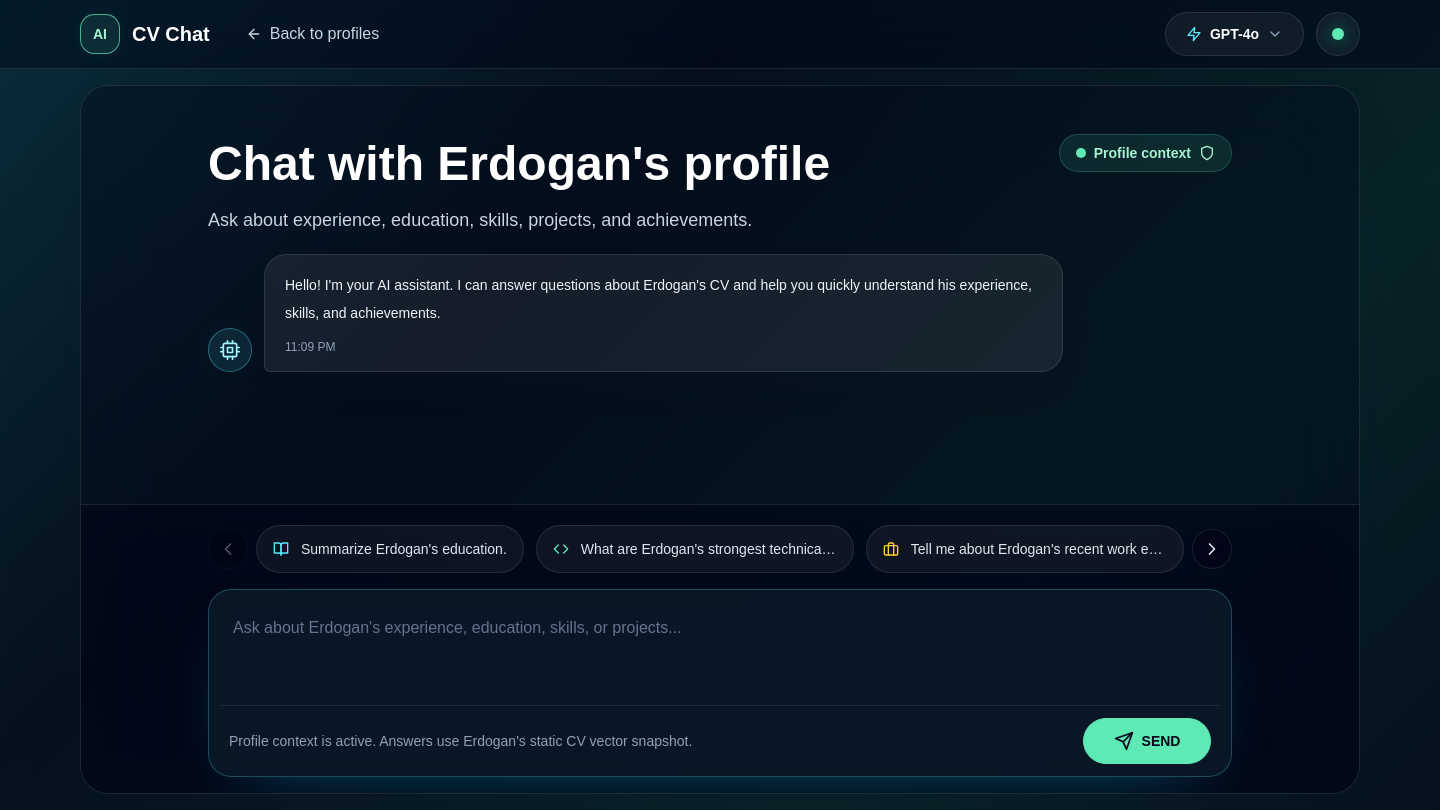
Scenario: ChatRoute › sends the previous completed turn as follow-up context
Expected: the button "GPT-4o" is shown, 1165,12 -> 1304,56
Type "What is the recent role?" into the text box with placeholder "Ask about Erdogan's experience, education, skills, or projects...". click: {"x": 720, "y": 650}
box: 221,602 -> 1219,698
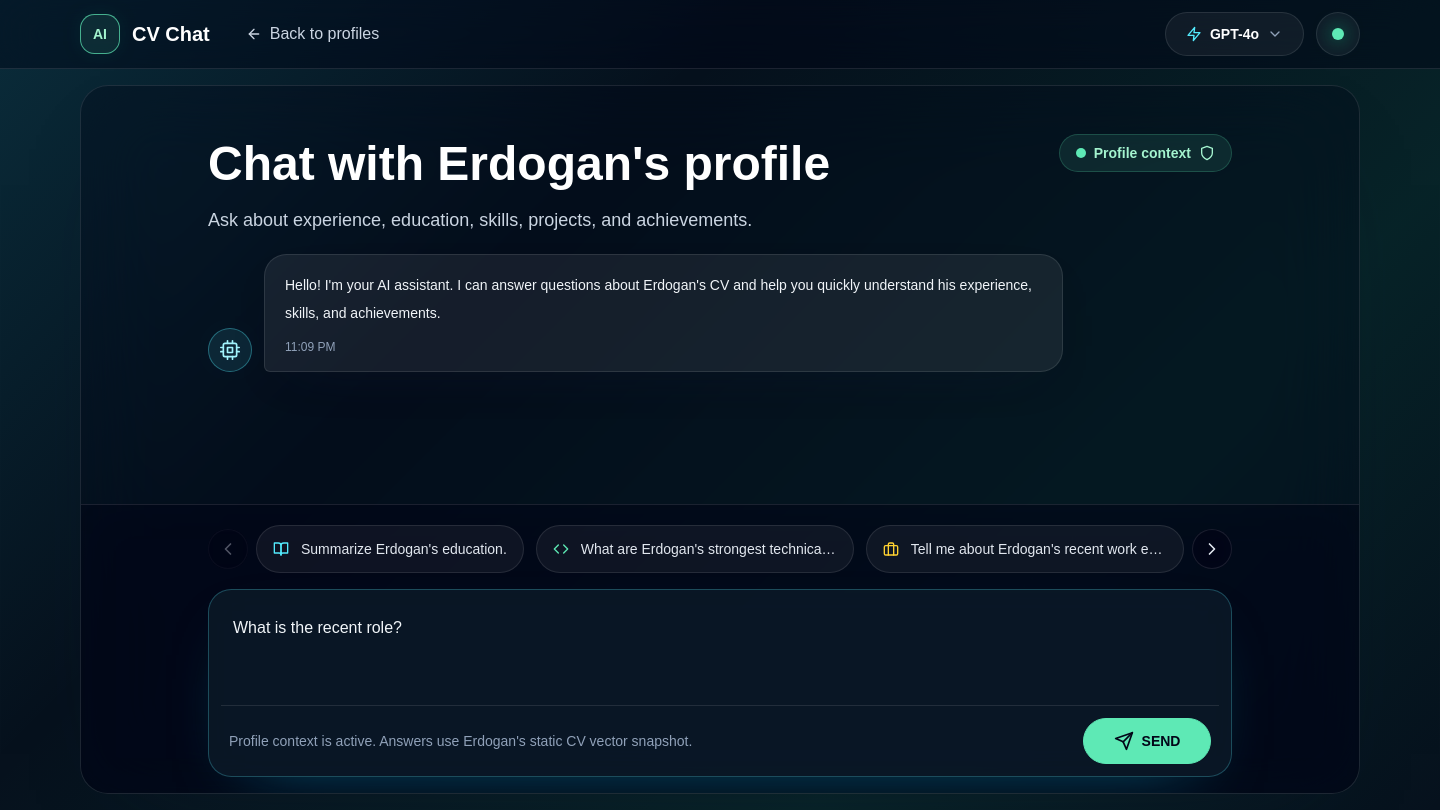
Click the button "Send". click: {"x": 1147, "y": 741}
box: 1083,718 -> 1211,764
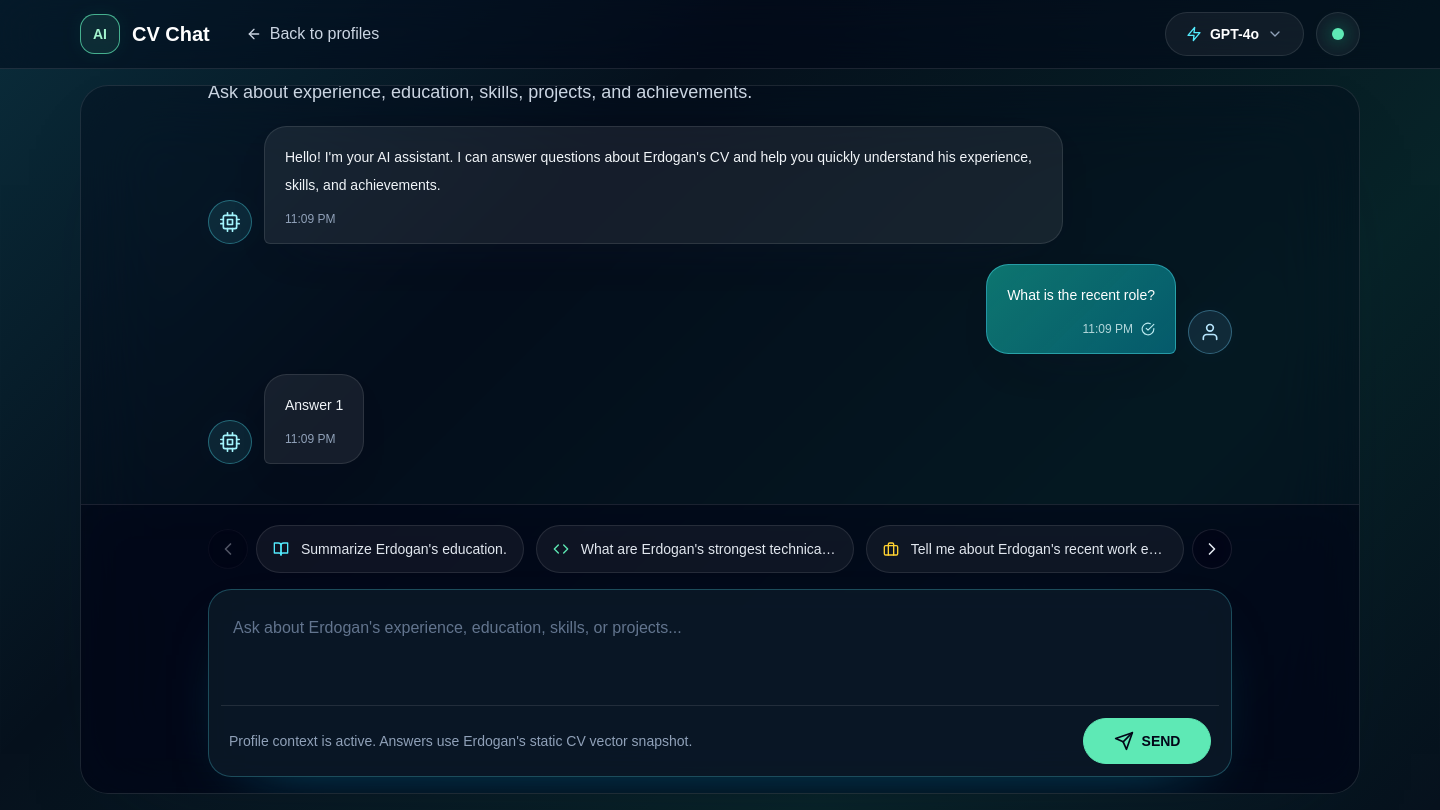
Expected: the text "Answer 1" is shown, 285,397 -> 343,413
Type "What about that company?" into the text box with placeholder "Ask about Erdogan's experience, education, skills, or projects...". click: {"x": 720, "y": 650}
box: 221,602 -> 1219,698
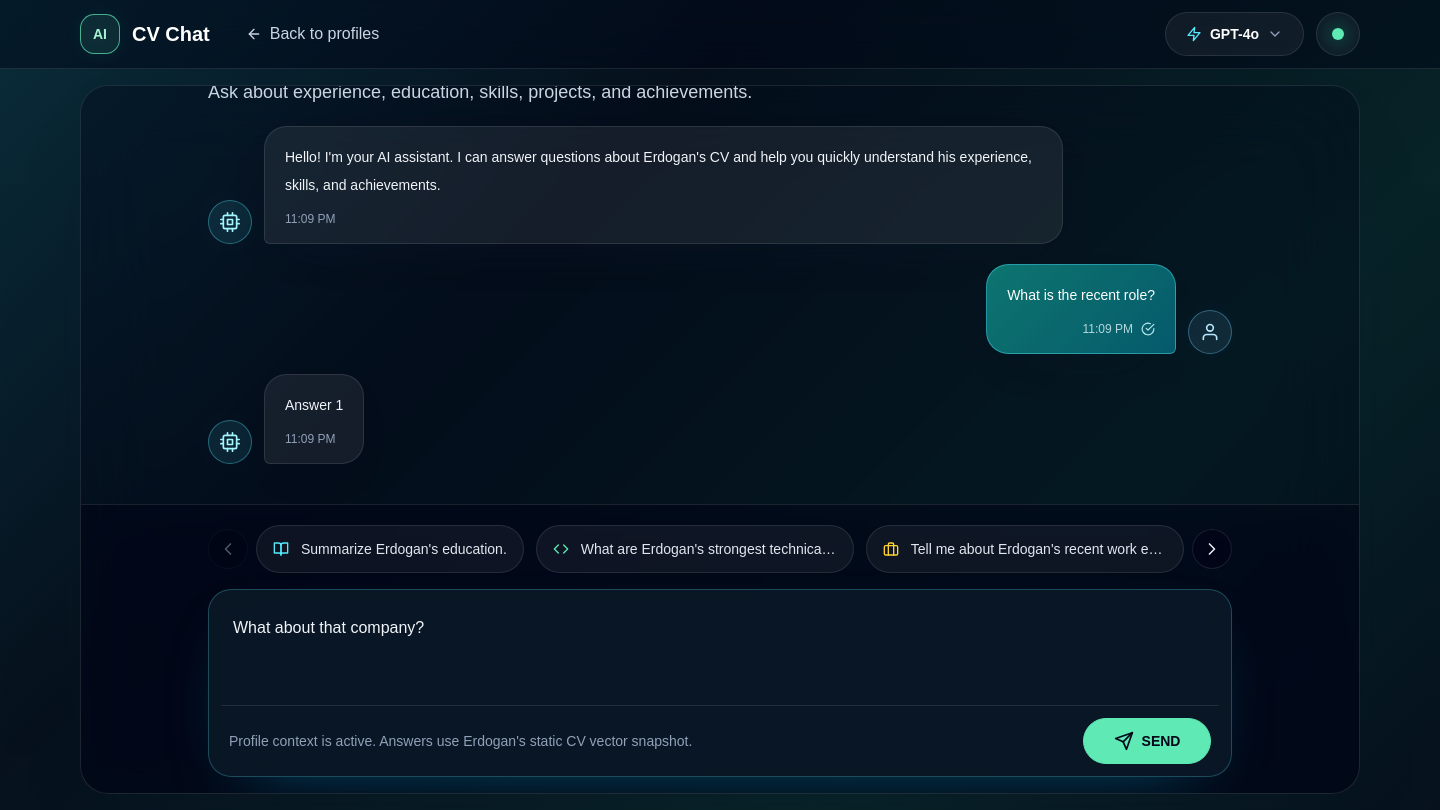
Click the button "Send". click: {"x": 1147, "y": 741}
box: 1083,718 -> 1211,764
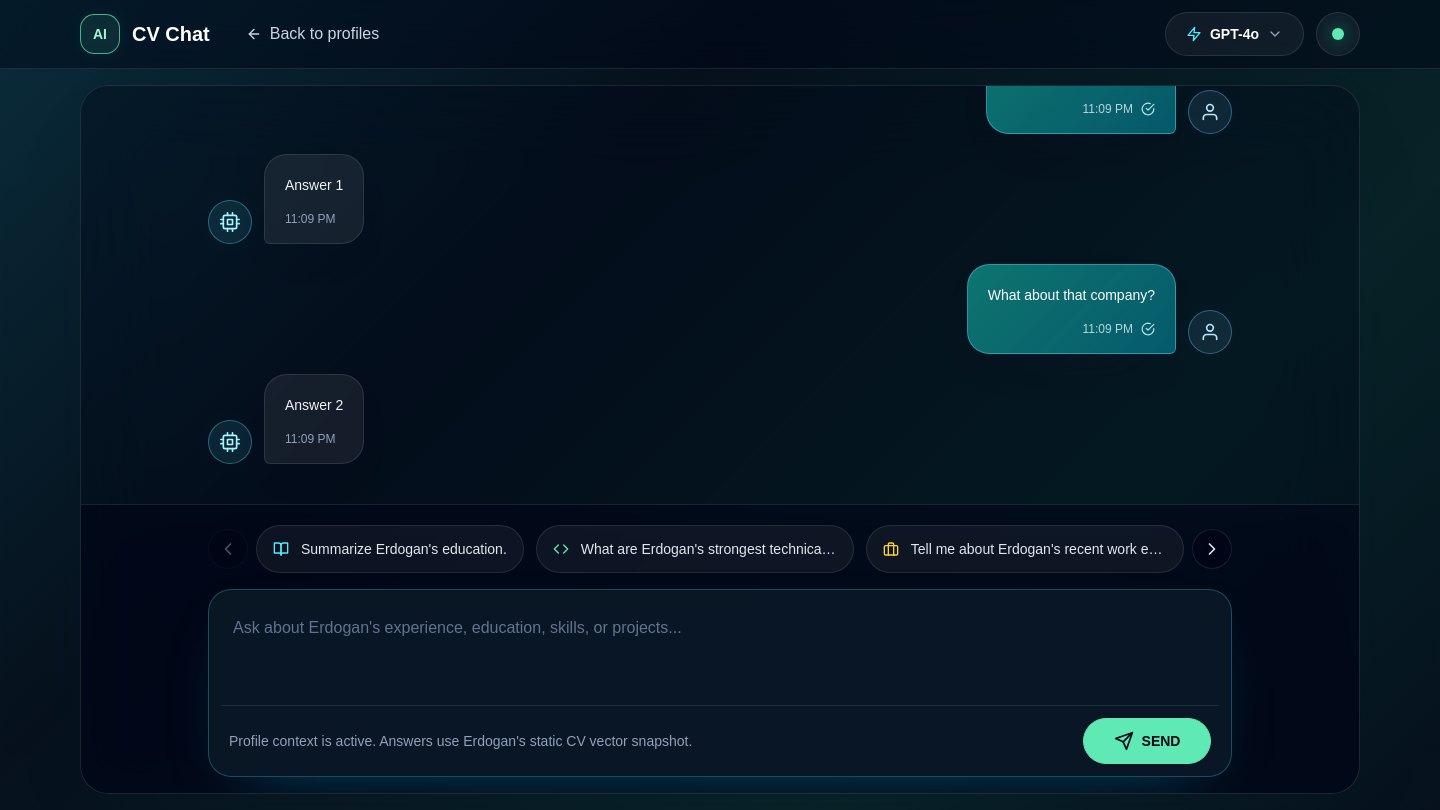
Expected: the text "Answer 2" is shown, 285,397 -> 343,413
